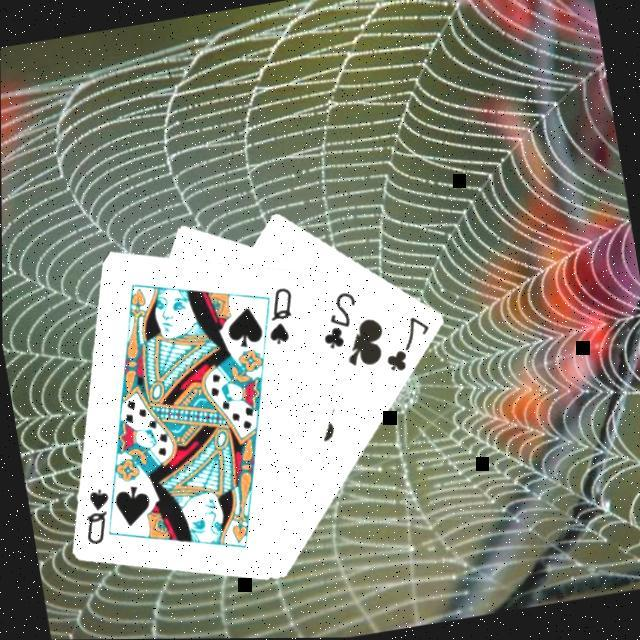2C: (315, 288, 368, 354)
7C: (378, 312, 441, 378)
QS: (260, 283, 304, 350), (78, 484, 120, 549)
